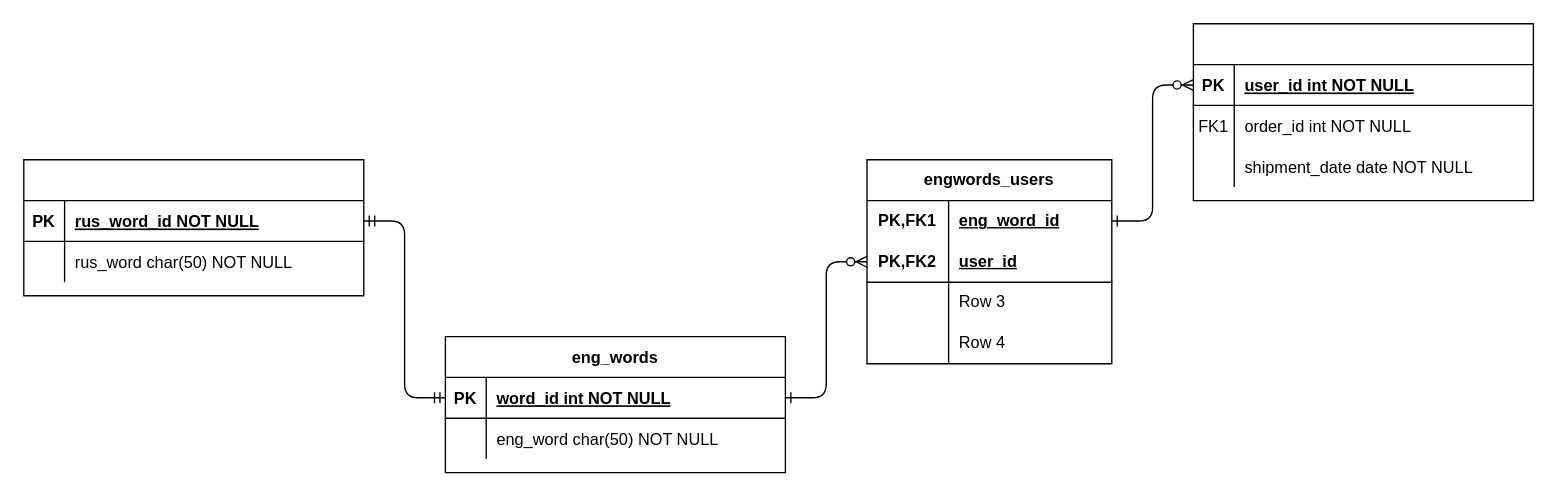
This 1557x496 diagram has some shape labels left out. The box of each missing label's shape, as (x1, y1, x2, y2) in pixels:
rus_words: (22, 158, 364, 296)
users: (1192, 22, 1533, 201)
